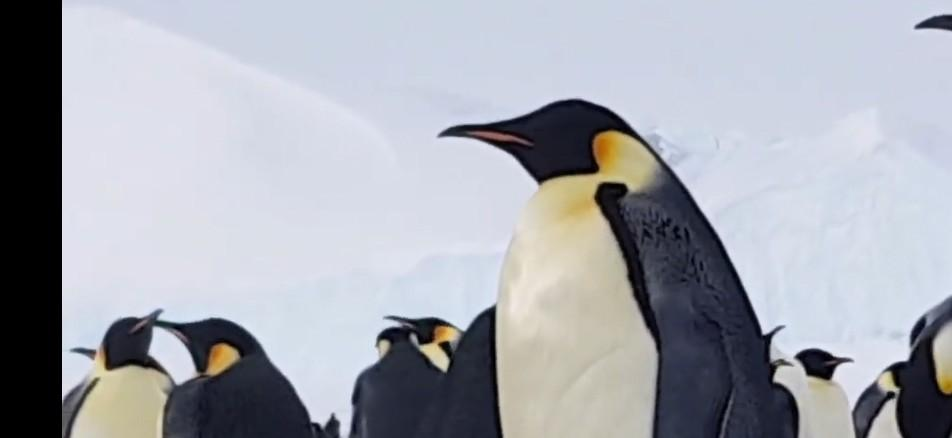Emperor Penguin: (425, 90, 825, 438), (156, 310, 326, 438), (62, 296, 182, 438), (923, 0, 952, 438), (380, 306, 472, 396)
